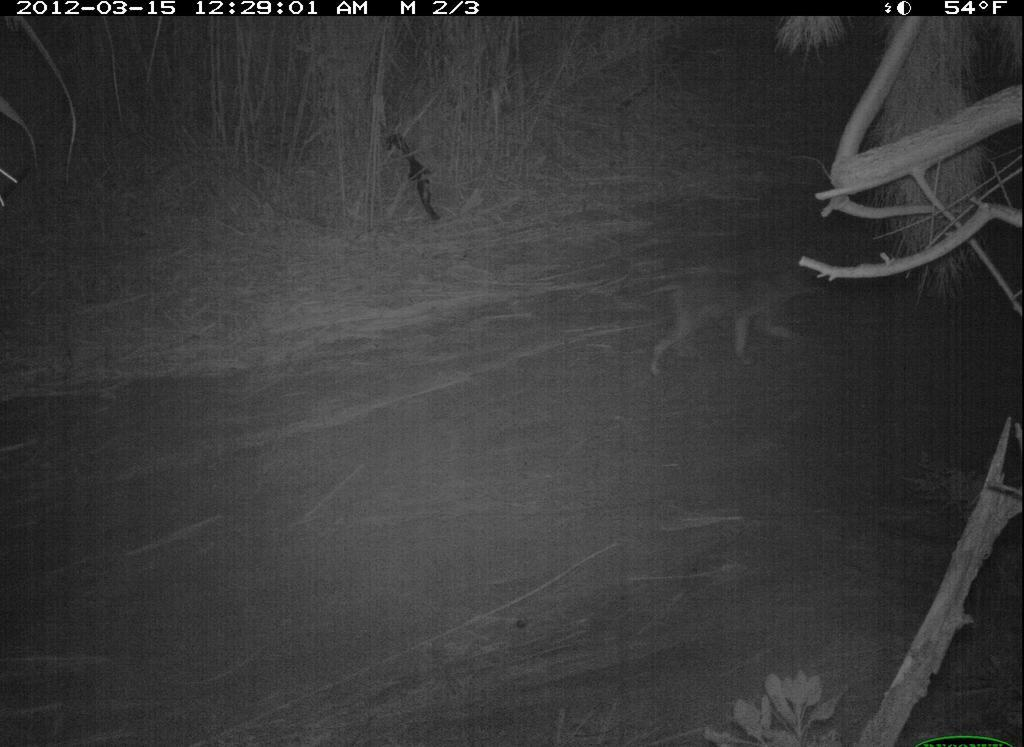coyote: (637, 251, 845, 379)
